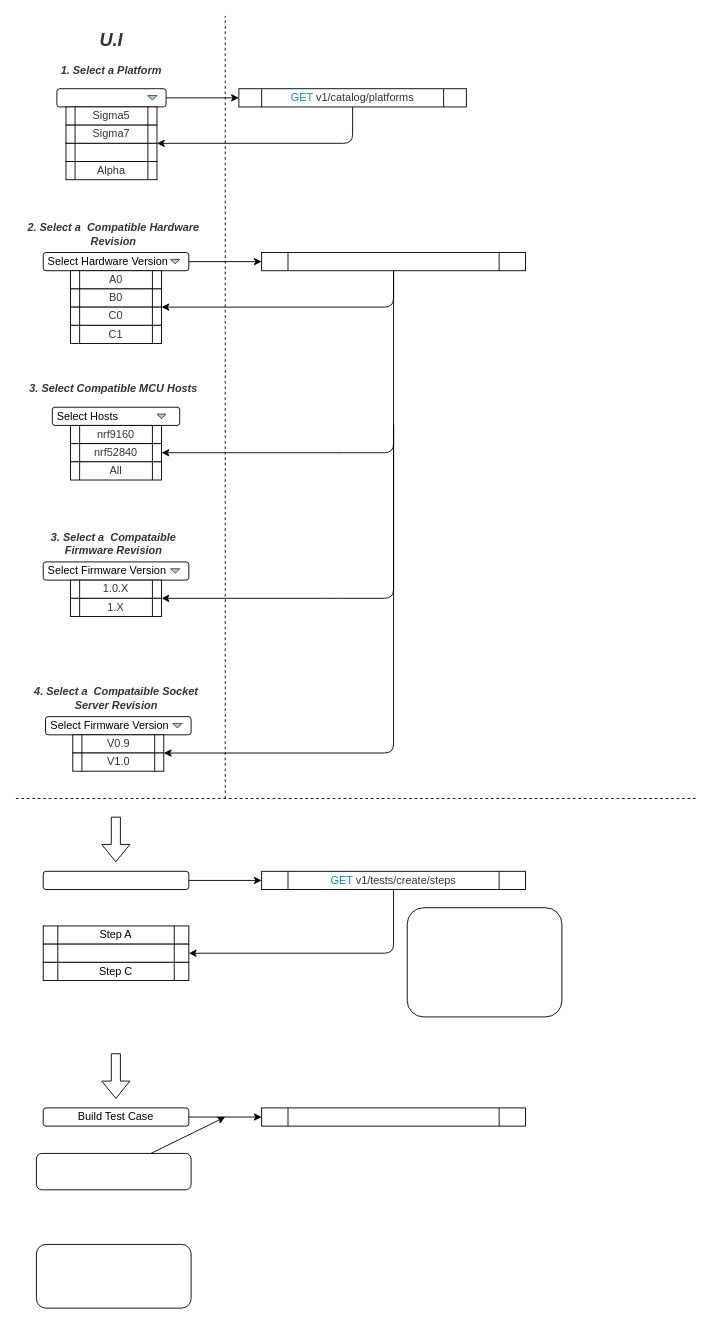
Some shapes in this 715 by 1324 pixel diagram are drawn without their labels. The shapes that lost their labels are listed below. From the top down, each one's centre as x and y in pixels, then its label:
the point at 111,97: Select Platform
the point at 111,152: Theta
the point at 393,261: GET v1/catalog/platforms/ {platformId}
the point at 115,880: Get Compatible Steps
the point at 115,952: Step B
the point at 484,962: TestStepInfo .marshal() TestStepConfig .marshal()
the point at 393,1116: POST v1/tests/create/steps
the point at 113,1171: ValidationConfig
the point at 113,1276: For each step: TestStepInfo .marshal() TestStepConfig .marshal()
